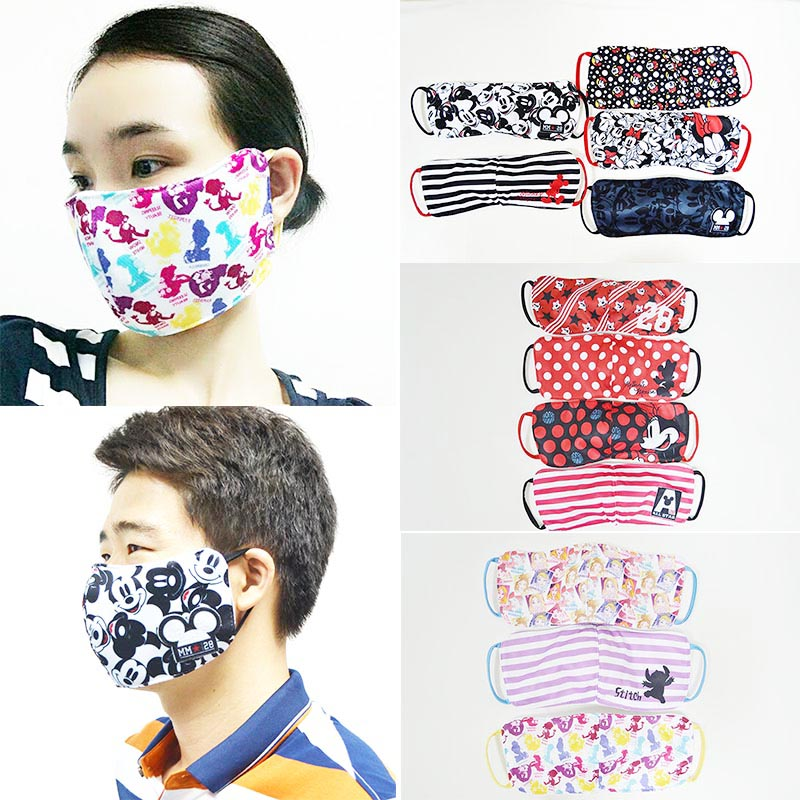face_mask: (62, 56, 240, 317), (80, 462, 227, 693)
